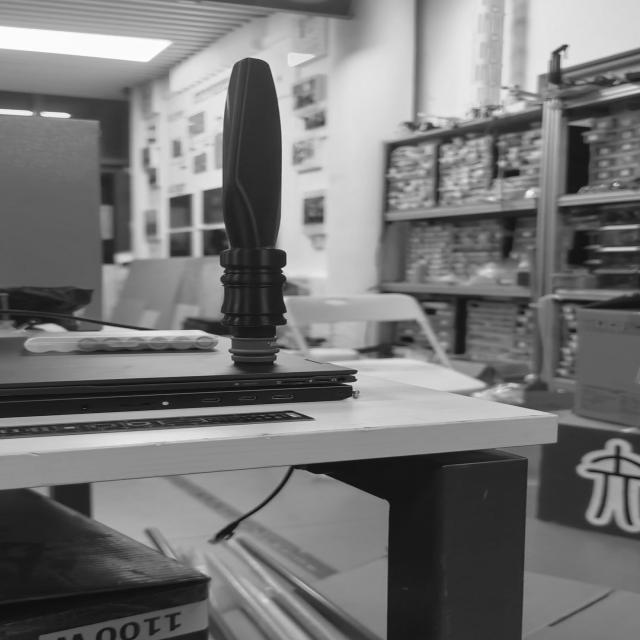base: (227, 336, 282, 365)
